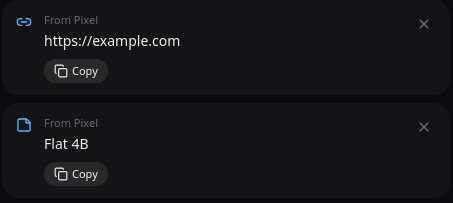
handoff › shows received items with Open only for web links, and dismisses them
The image size is (453, 203).
Expected: the text "From Pixel" is shown 2 times, left=44, top=12, right=98, bottom=27; left=44, top=115, right=98, bottom=130
Expected: the number of buttons "Copy" is 2, left=44, top=58, right=108, bottom=83; left=44, top=162, right=108, bottom=186
Step 1. Click the button named "Dismiss" in the row of "Flat 4B" → (424, 127), box left=412, top=115, right=436, bottom=139
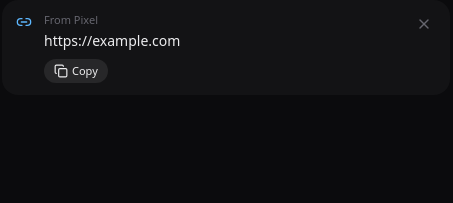
Now the text "Flat 4B" is gone
